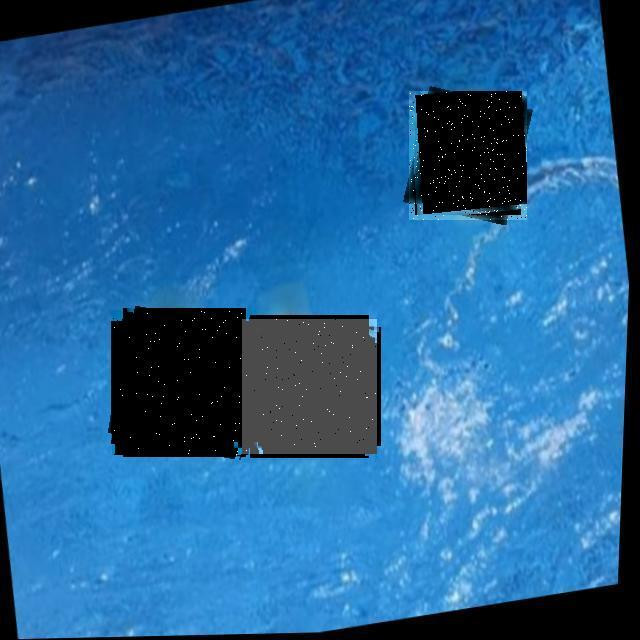swimming: (112, 310, 257, 455), (242, 319, 377, 454), (409, 91, 527, 220)
